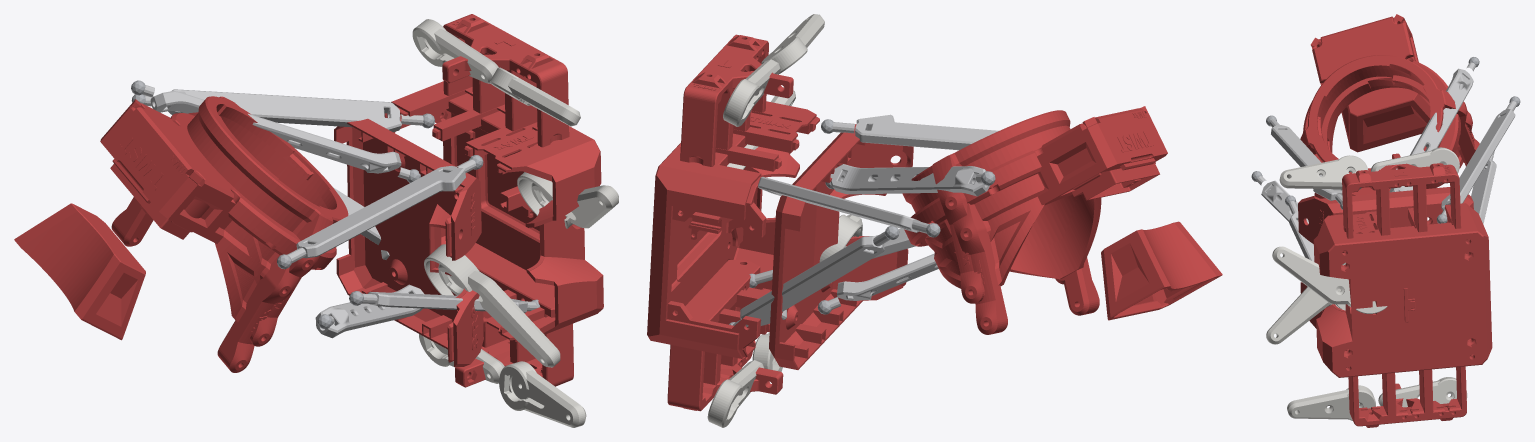
The model's file is ORS6_phys.glb.
3 views of the same model, side by side, from view 1: azimuth 30°, elevation 25°; view 2: azimuth 150°, elevation 25°; view 3: azimuth 270°, elevation 25° (orthographic). The views are drawn at different scales.
Visible parts, largest first — view 1: p0, p3, p7, p5, p8, p1, p6, p2, p19, p30, p13, p25 (+8 smaller); view 2: p0, p7, p3, p5, p8, p1, p2, p25, p37, p13, p6, p19 (+7 smaller); view 3: p0, p5, p1, p6, p8, p2, p3, p24, p12, p42, p25, p19 (+9 smaller).
Part boxes in pixels (x1,y1,x2,y2): p0: [384, 81, 603, 341]; p3: [334, 118, 483, 366]; p7: [100, 109, 327, 372]; p5: [187, 96, 348, 346]; p8: [14, 203, 145, 340]; p1: [442, 14, 569, 147]; p6: [126, 99, 336, 265]; p2: [455, 243, 573, 387]; p19: [168, 89, 401, 132]; p30: [424, 244, 560, 367]; p13: [296, 166, 465, 258]; p25: [150, 91, 401, 173]; p0: [647, 101, 819, 358]; p7: [908, 118, 1167, 334]; p3: [769, 124, 913, 369]; p5: [902, 110, 1076, 303]; p8: [1101, 221, 1222, 320]; p1: [680, 34, 793, 166]; p2: [667, 259, 783, 411]; p25: [830, 164, 989, 196]; p37: [740, 236, 884, 325]; p13: [855, 114, 998, 150]; p6: [904, 106, 1150, 237]; p19: [758, 176, 920, 232]; p0: [1313, 203, 1492, 377]; p5: [1300, 55, 1479, 198]; p1: [1342, 153, 1467, 251]; p6: [1303, 14, 1459, 195]; p8: [1341, 87, 1430, 152]; p2: [1345, 350, 1472, 427]; p3: [1298, 187, 1473, 328]; p24: [1272, 246, 1387, 313]; p12: [1279, 155, 1368, 189]; p42: [1287, 385, 1375, 420]; p25: [1389, 68, 1473, 192]; p19: [1441, 108, 1515, 210].
Size of the model in its own units: 355 by 244 by 215.
